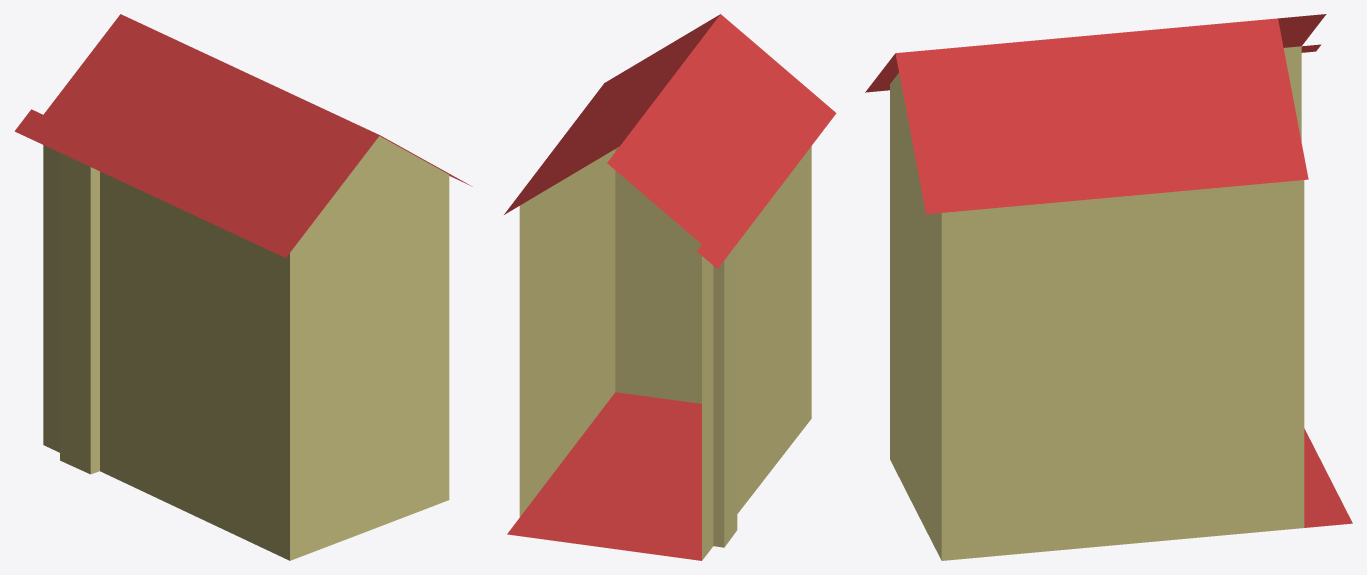
3 views of the same model, side by side, from view 1: azimuth 30°, elevation 25°; view 2: azimuth 150°, elevation 25°; view 3: azimuth 270°, elevation 25° (orthographic). The views are drawn at different scales.
Bounding box in the file's own units: 14.04 × 17.99 × 18.62.
